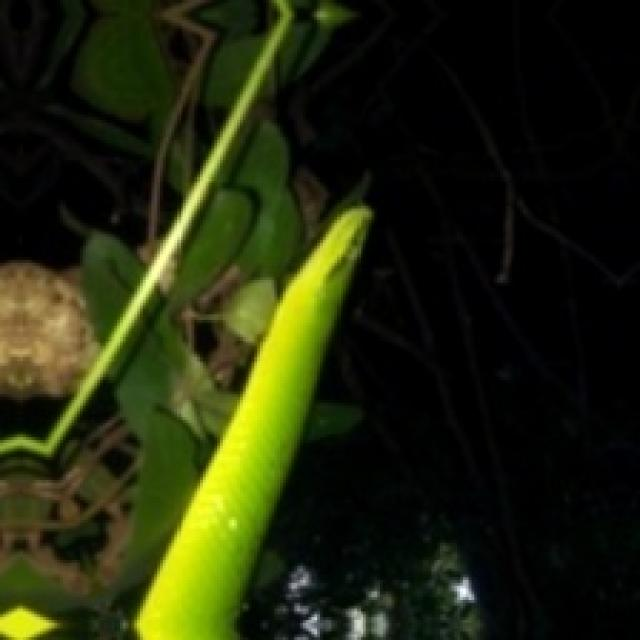red-tailed green ratsnake: (134, 206, 369, 637)
